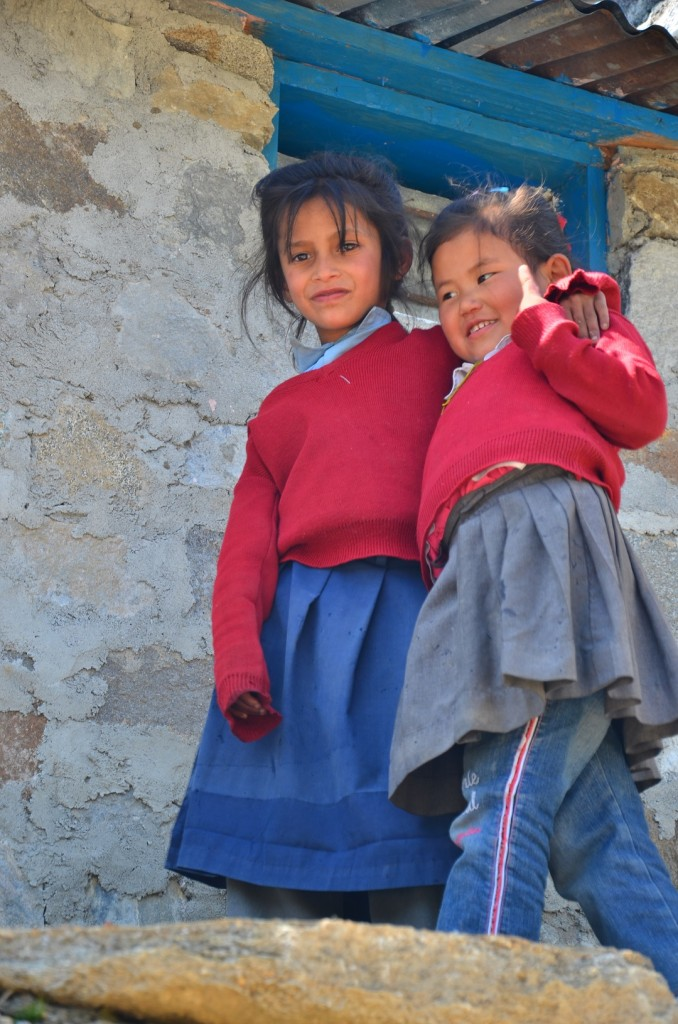human: (376, 176, 678, 987), (164, 145, 469, 944)
